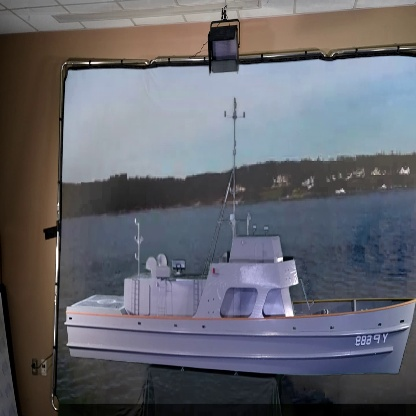YP689: (65, 80, 416, 378)
